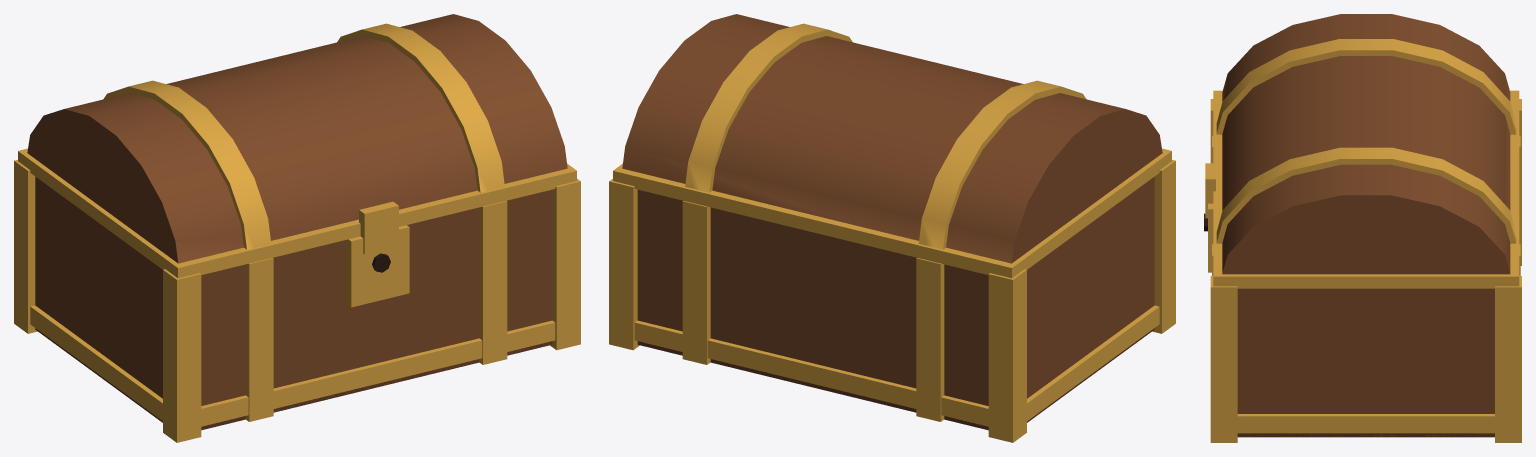
The model's file is chest.glb.
The picture shows the model from 3 angles, left to right: view 1: azimuth 30°, elevation 25°; view 2: azimuth 150°, elevation 25°; view 3: azimuth 270°, elevation 25°; orthographic projection. The views are drawn at different scales.
Parts seen in each view (by area): view 1: ChestLid, ChestBody; view 2: ChestLid, ChestBody; view 3: ChestLid, ChestBody.
Part boxes in pixels (box(x1,y1,x2,y2)): ChestLid: box(18, 14, 576, 278); ChestBody: box(14, 160, 580, 442); ChestLid: box(613, 14, 1171, 278); ChestBody: box(609, 160, 1175, 442); ChestLid: box(1205, 14, 1519, 288); ChestBody: box(1204, 99, 1521, 442).
Bounding box in the file's own units: 1.66 × 1.03 × 1.19.
1 material, 1 textured.
